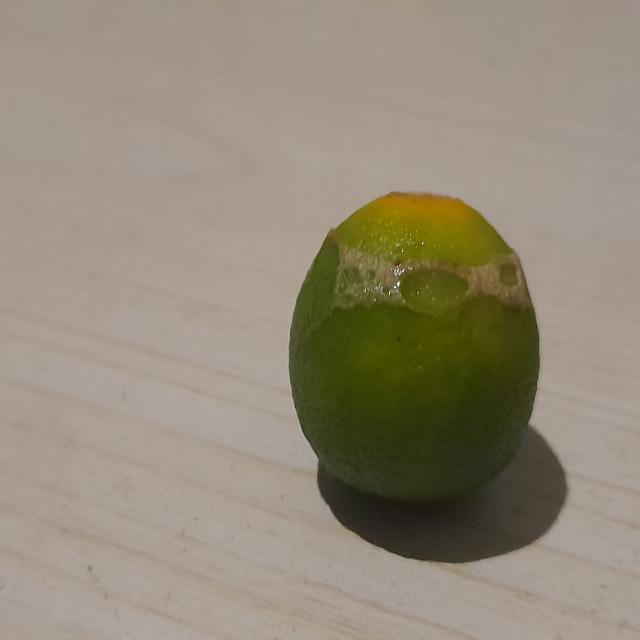thrips: (285, 186, 544, 515)
